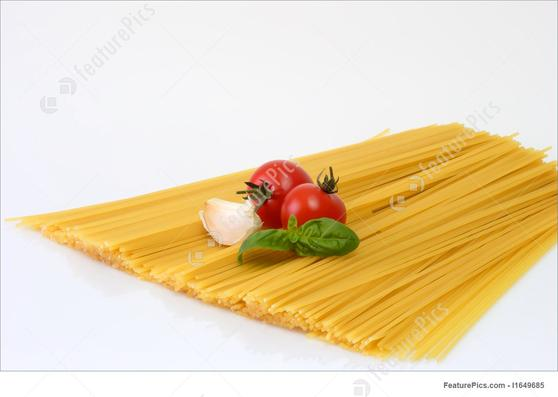tomato: (277, 174, 354, 232)
